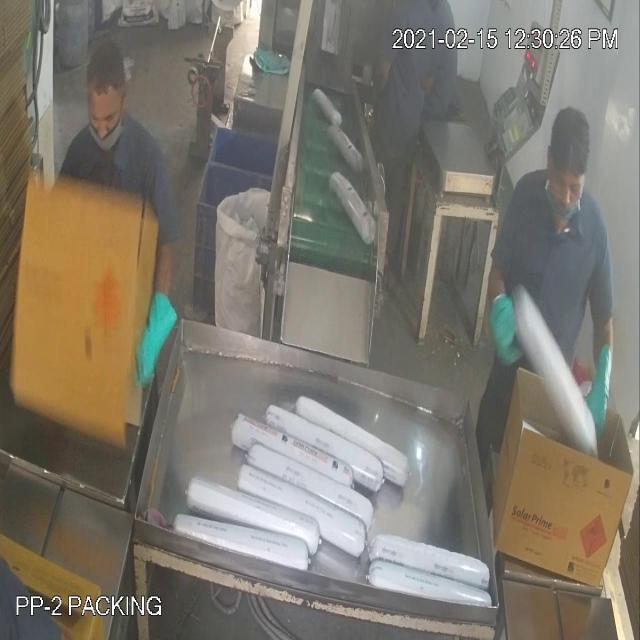gloves: (115, 275, 191, 393), (579, 322, 618, 444), (485, 287, 533, 373)
